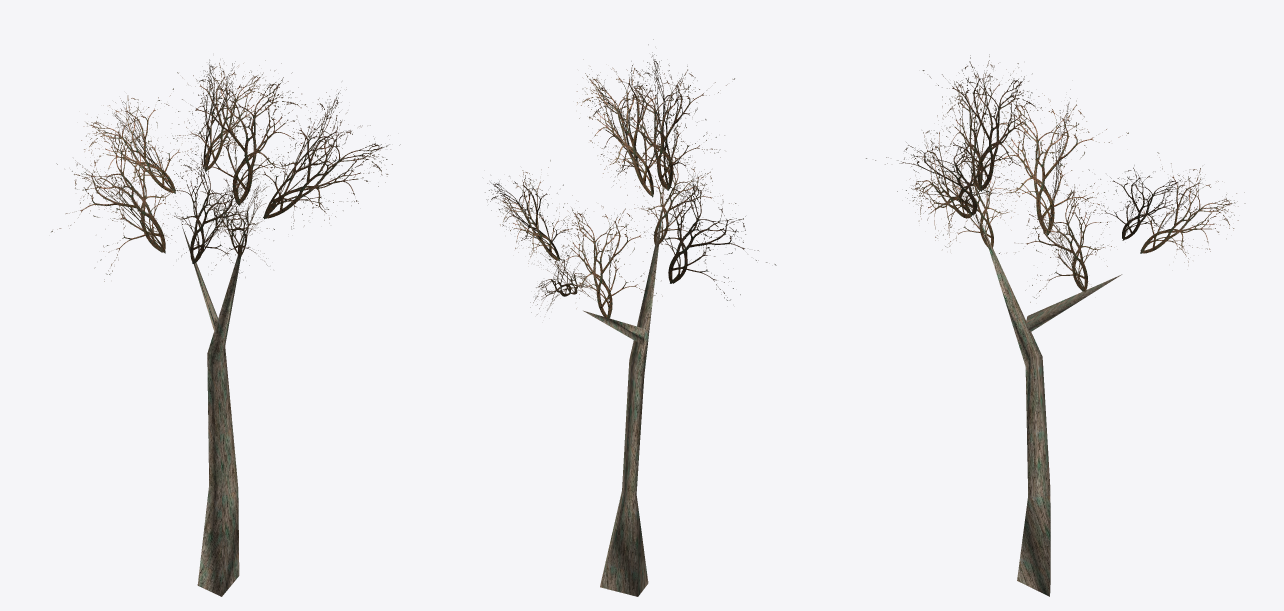
File: decd_dogwoodtreebranches_a1_l2.fbx
3 views of the same model, side by side, from view 1: azimuth 30°, elevation 25°; view 2: azimuth 150°, elevation 25°; view 3: azimuth 270°, elevation 25° (orthographic). The views are drawn at different scales.
Parts seen in each view (by area): view 1: mesh_node; view 2: mesh_node; view 3: mesh_node.
Boxes of the visible parts, box(x1,y1,x2,y2) form: mesh_node: box(51, 59, 400, 596); mesh_node: box(485, 39, 776, 596); mesh_node: box(866, 54, 1245, 596).
Size of the model in its own units: 13.14 by 21.1 by 15.36.
